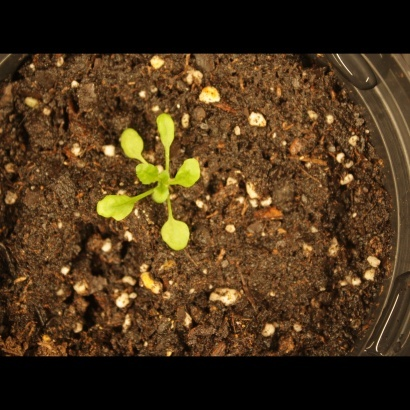leaf: (89, 190, 141, 224), (154, 215, 198, 255), (151, 111, 180, 151), (171, 156, 205, 189), (118, 125, 147, 158), (133, 160, 160, 186), (148, 183, 171, 206)
